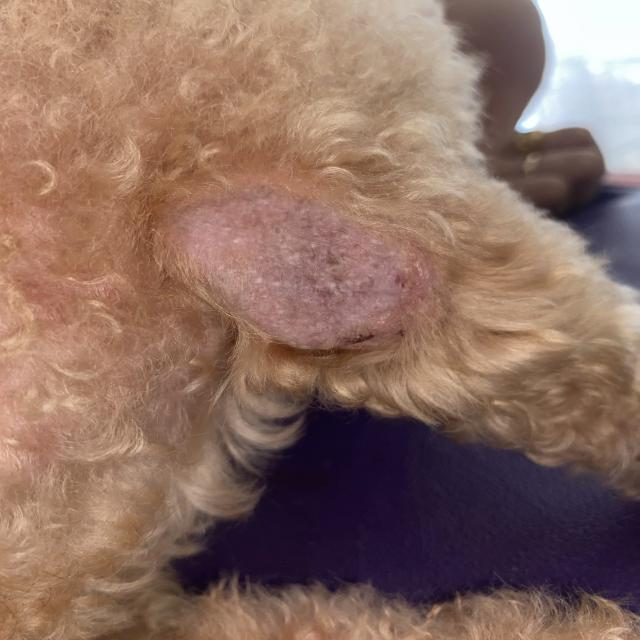ringworm: (146, 144, 521, 377)
